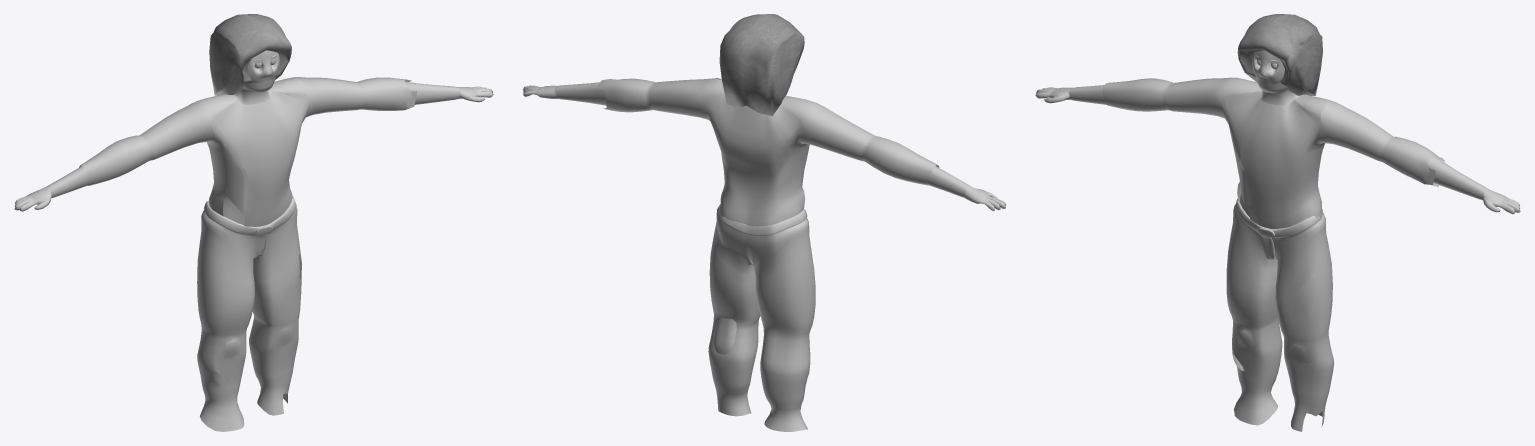
Rendered from Ghost.fbx.
3 renders of one model, left to right at view 1: azimuth 30°, elevation 25°; view 2: azimuth 150°, elevation 25°; view 3: azimuth 330°, elevation 25°, orthographic.
Parts seen in each view (by area): view 1: Ghosttrousers, Ghostshirt, Ghostbod, Ghosthair; view 2: Ghostshirt, Ghosttrousers, Ghosthair, Ghostbod; view 3: Ghostshirt, Ghosttrousers, Ghostbod, Ghosthair.
Part boxes in pixels (<box>): Ghosttrousers: <box>197,196,302,431</box>; Ghostshirt: <box>79,77,417,226</box>; Ghostbod: <box>14,50,493,382</box>; Ghosthair: <box>209,14,291,95</box>; Ghostshirt: <box>597,78,939,226</box>; Ghosttrousers: <box>708,204,815,431</box>; Ghosthair: <box>719,14,804,116</box>; Ghostbod: <box>522,82,1006,354</box>; Ghostshirt: <box>1102,77,1445,228</box>; Ghosttrousers: <box>1226,198,1334,431</box>; Ghostbod: <box>1035,50,1520,371</box>; Ghosthair: <box>1237,14,1322,95</box>.
Bounding box in the file's own units: 8.11 × 6.49 × 1.09.
